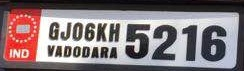character: (199, 23, 227, 61), (123, 23, 151, 60), (150, 23, 177, 61), (180, 23, 198, 63), (106, 21, 121, 43), (46, 20, 60, 41), (95, 21, 108, 42), (71, 21, 84, 41), (84, 22, 96, 42), (60, 21, 72, 40)
